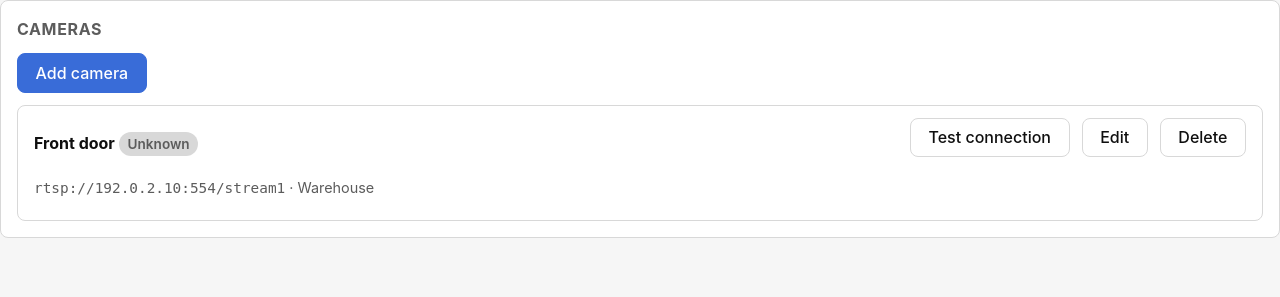
Test: CamerasPage › test connection shows the returned status, resolution, and fps
Click the button "Test connection". click: (990, 137)
box: [910, 118, 1070, 157]
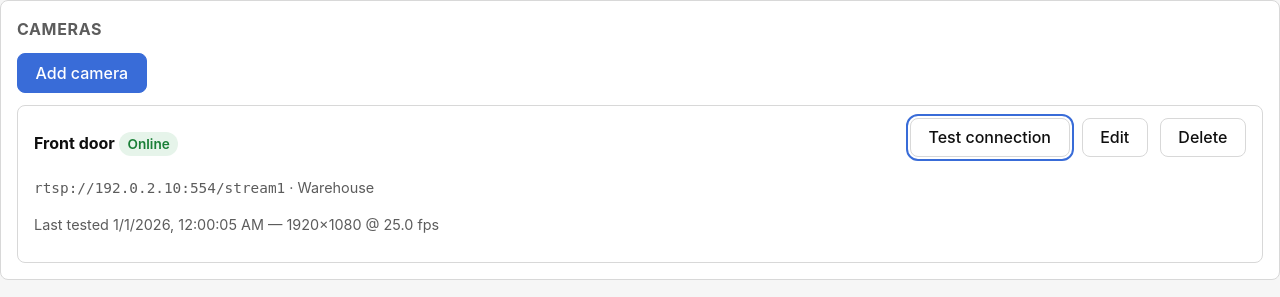
Expected: the text "Last tested 1/1/2026, 12:00:05 AM — 1920×1080 @ 25.0 fps" is shown, [34, 216, 439, 233]
